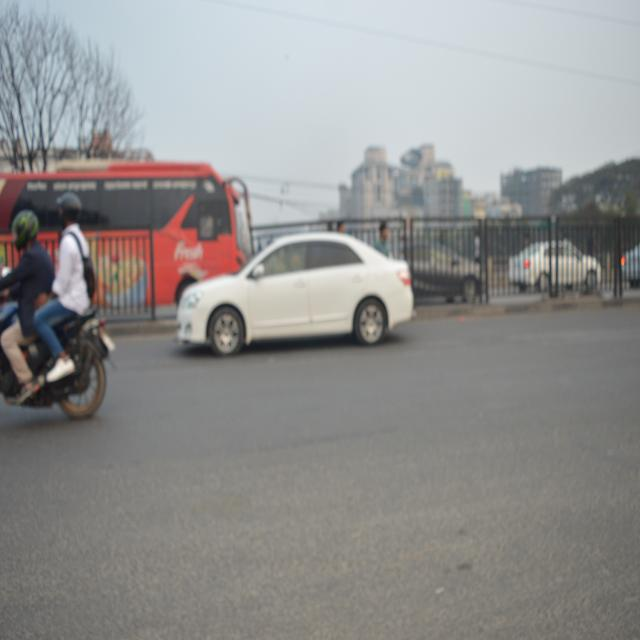bus: (95, 156, 244, 318)
car: (168, 228, 418, 356), (504, 234, 604, 299)
motorbike: (0, 278, 115, 426)
